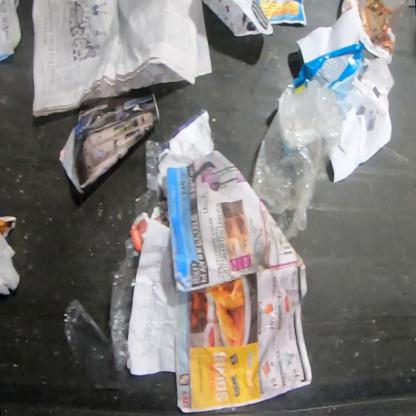soft_plastic: (250, 80, 342, 239), (63, 237, 141, 381), (287, 44, 364, 126), (134, 140, 167, 220)
